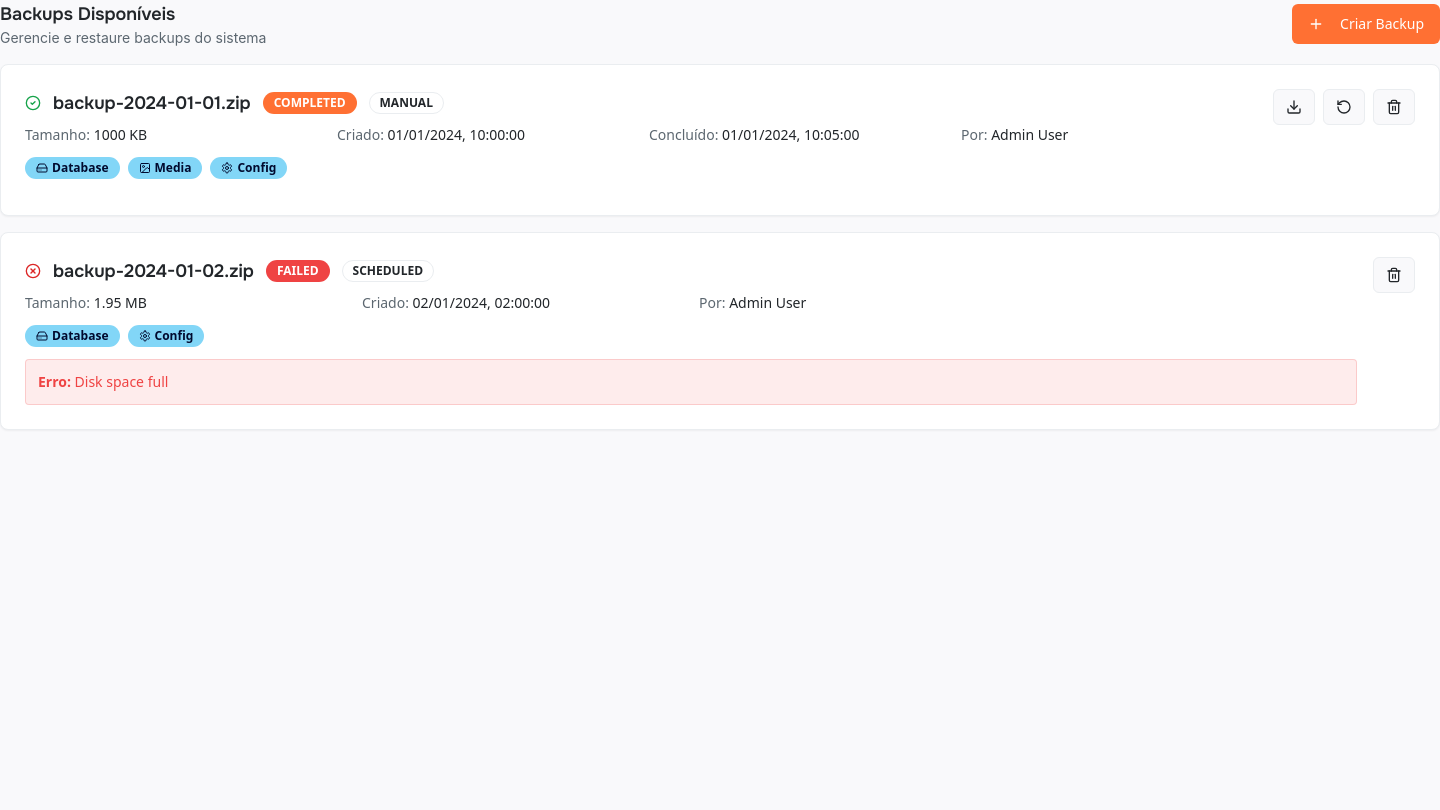
Test: BackupsList › Delete Backup › should open delete confirmation dialog
Click the 4th button: (1394,107) [1373,89,1415,125]
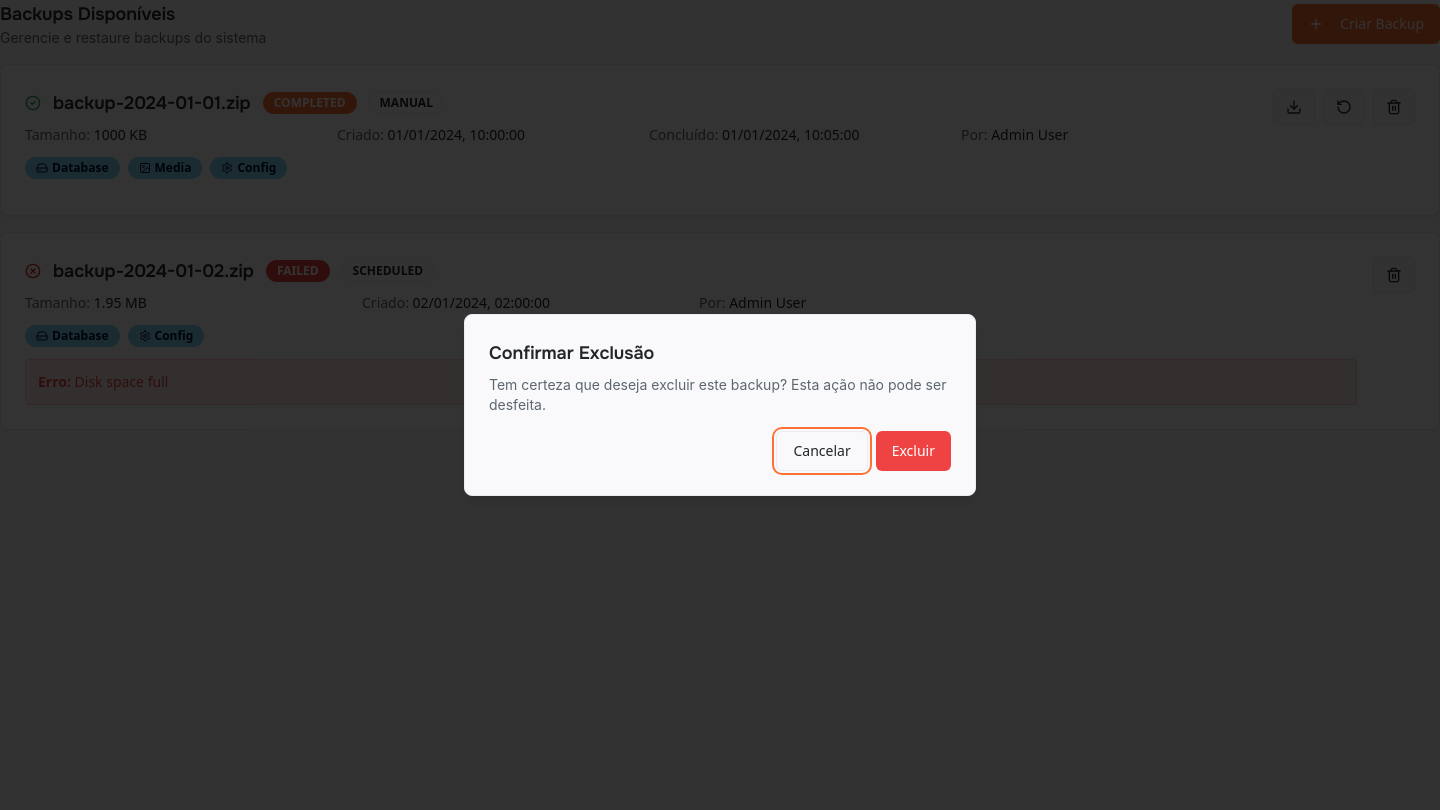
expect the heading "Confirmar Exclusão" is shown: met, box [489,342,654,364]
expect the text "Tem certeza que deseja excluir este backup" is shown: met, box [489,376,946,413]
